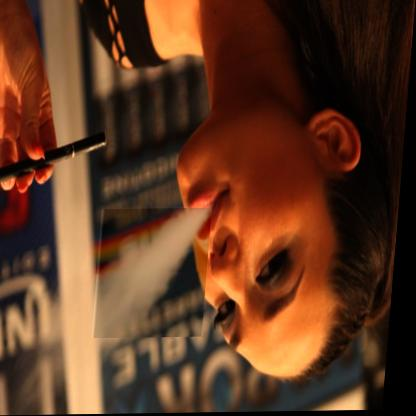smoke: (97, 208, 215, 339)
